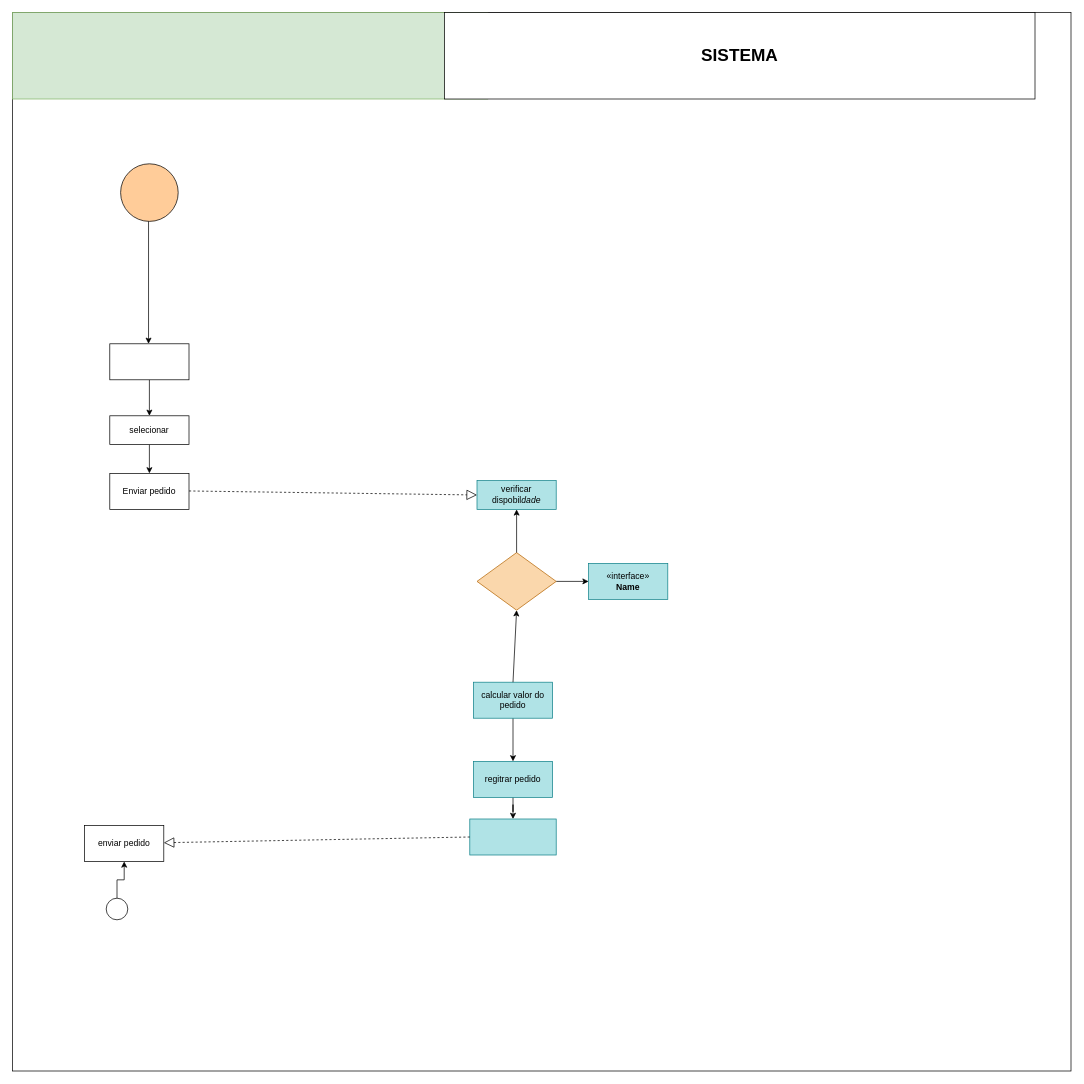
Image size: 1084x1084. Some labels were removed from this diagram. Each missing label, with the centre of its shape:
"Acessa o sistema" goes at point 149,361.
"CLINTE" goes at point 250,55.
"enviar confirmação" goes at point 512,836.
"produto disponivel" goes at point 516,581.
